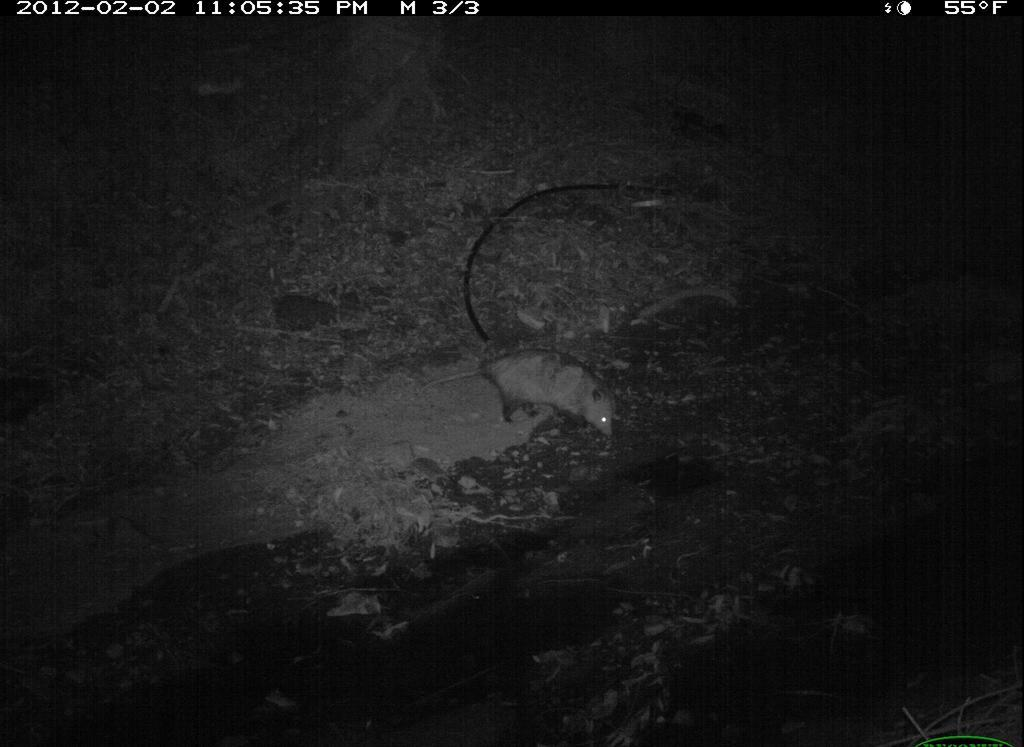opossum: (411, 345, 634, 454)
